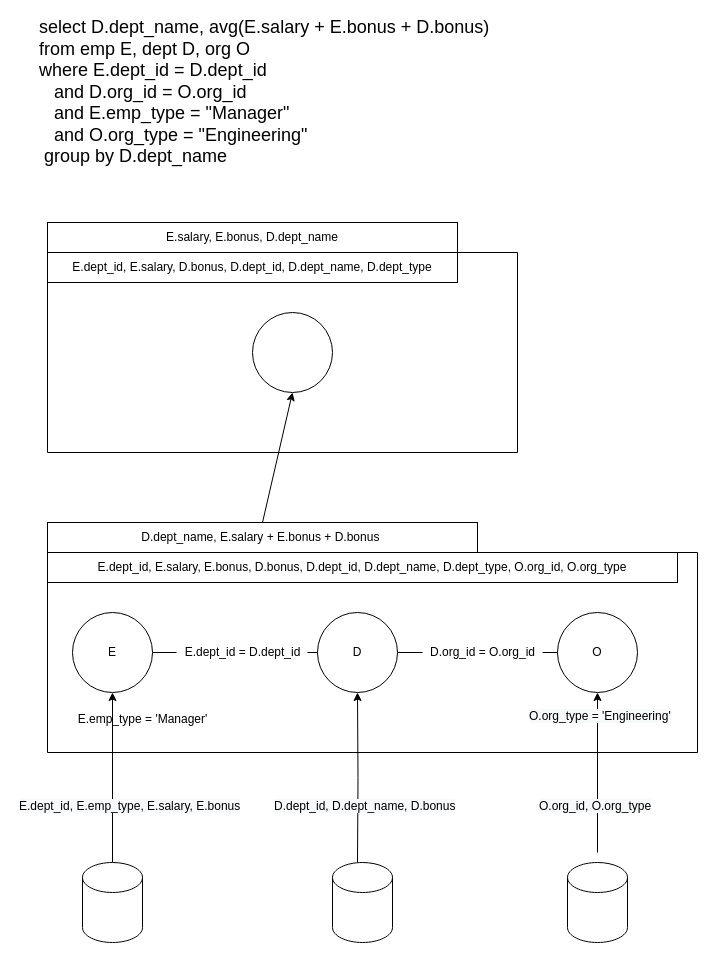
Image size: 715x960. Some labels were removed from this diagram. Here are the shapes that lost their labels. From the top down, the centre of each, then its label:
At point 292,352: "GRP_BY".
At point 112,902: "EMP".
At point 362,902: "DEPT".
At point 597,902: "ORG".
